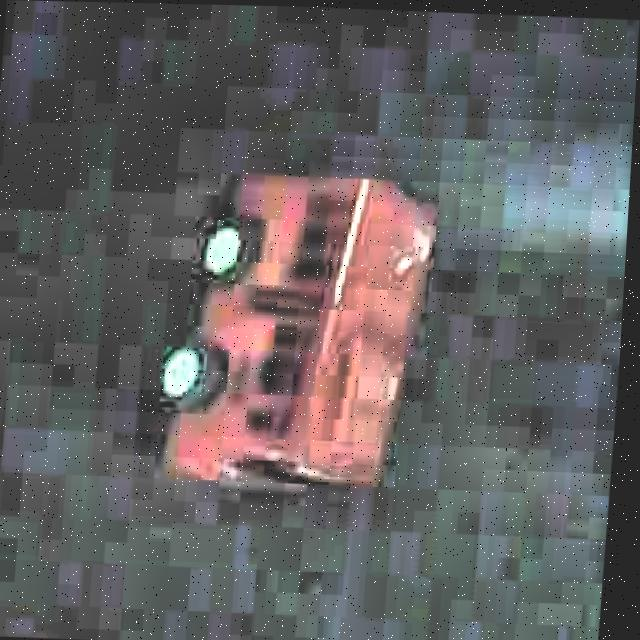bus: (144, 161, 445, 498)
